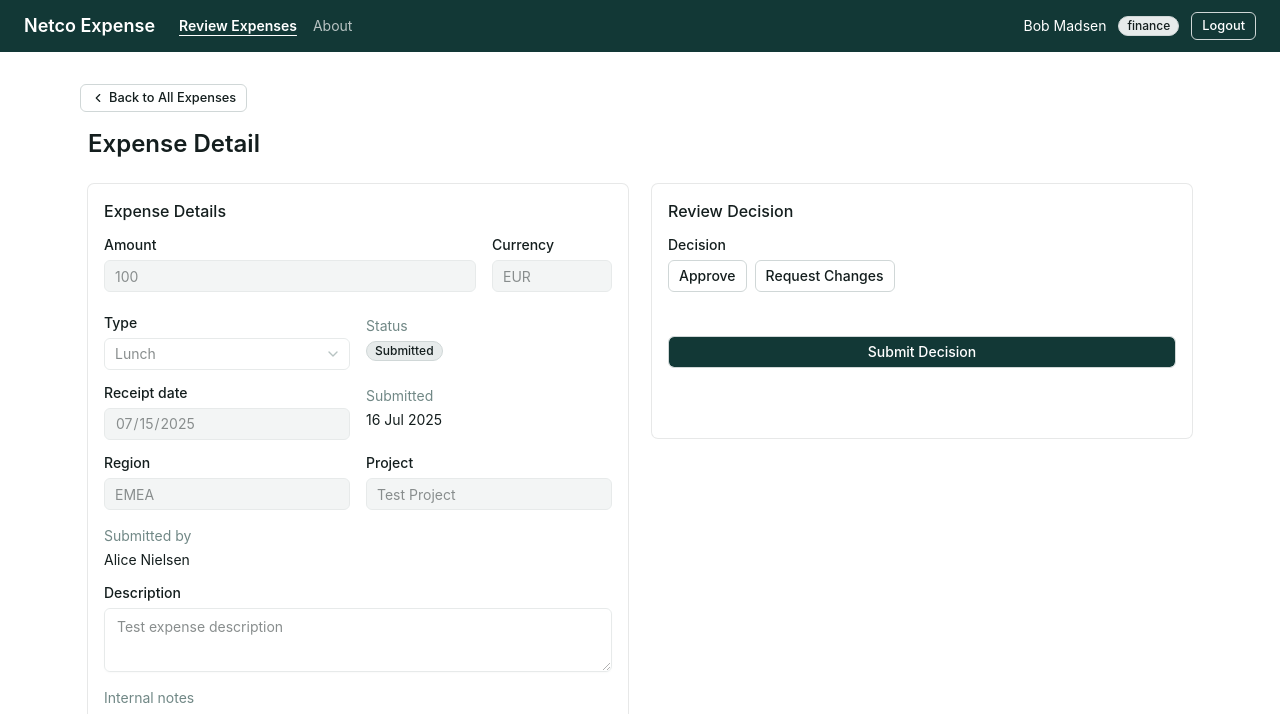
Test: review decision form integration › shows an error and keeps the form enabled when the update fails
Click the button "Approve" at (707, 276), box top-left (668, 260), bottom-right (747, 292)
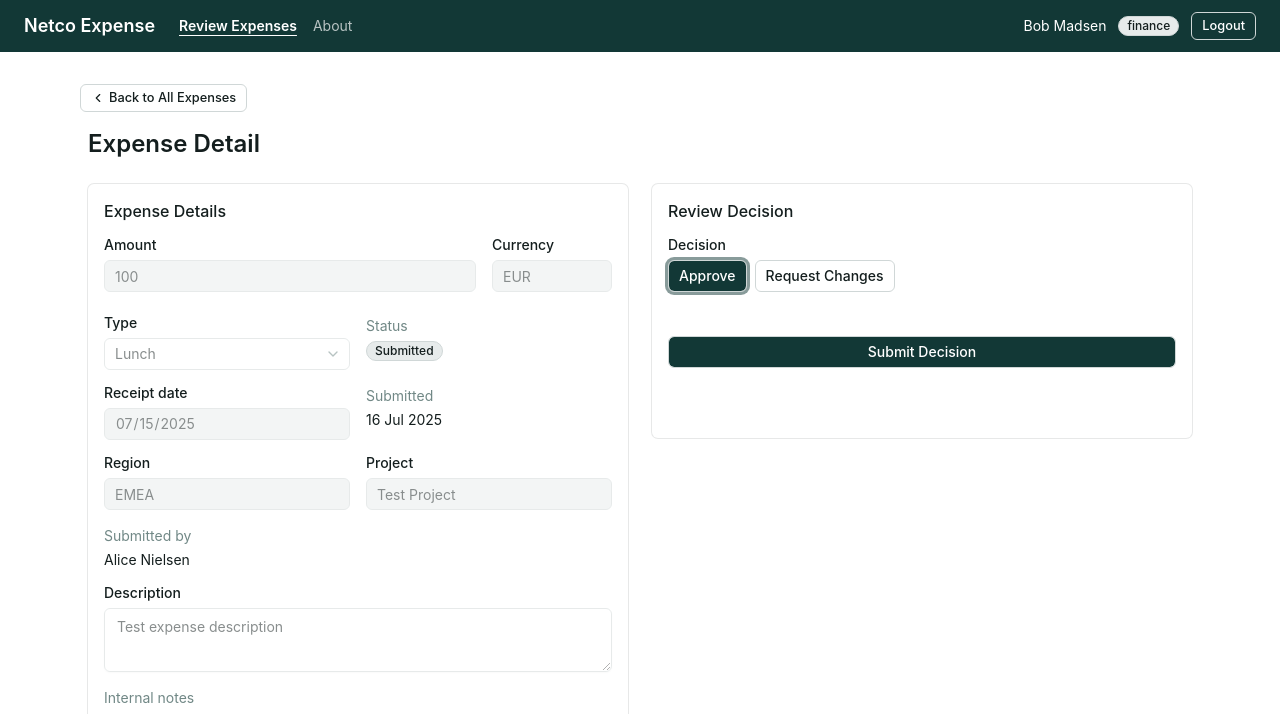
Click the button "Submit Decision" at (922, 352), box top-left (668, 336), bottom-right (1176, 368)
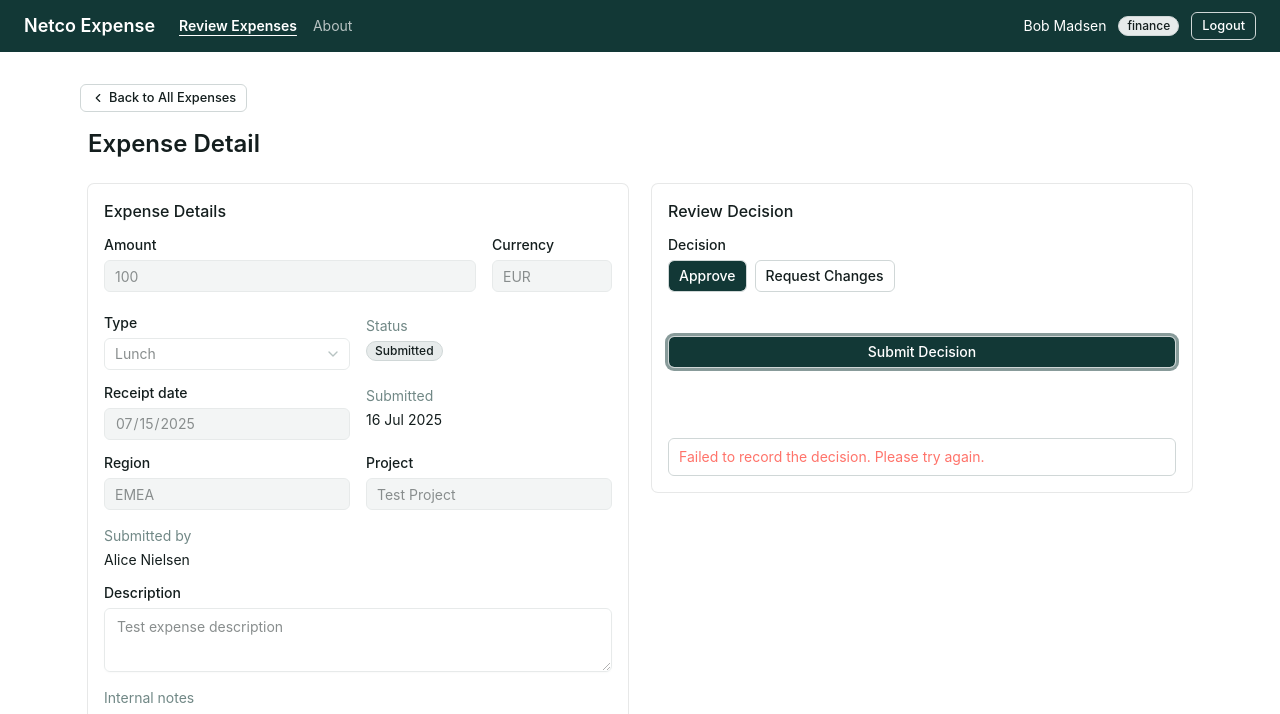
Expected: the text "Failed to record the decision. Please try again." is shown, top-left (679, 448), bottom-right (984, 465)
